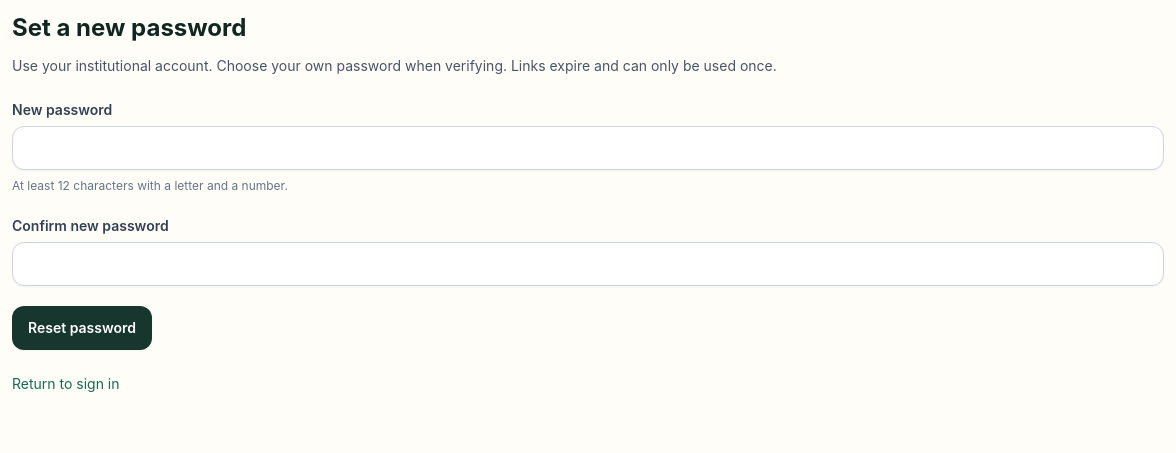
does not submit a recovery password when confirmation differs
In the password field labelled "New password": [588, 148] box [12,126,1164,170], type "ChosenPassword123!"
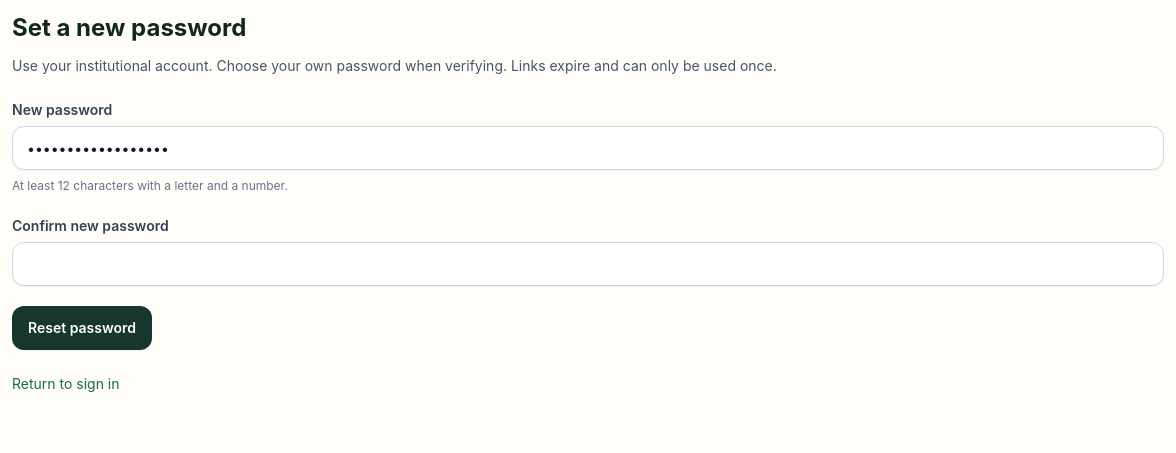
In the password field labelled "Confirm new password": [588, 264] box [12,242,1164,286], type "DifferentPassword123!"
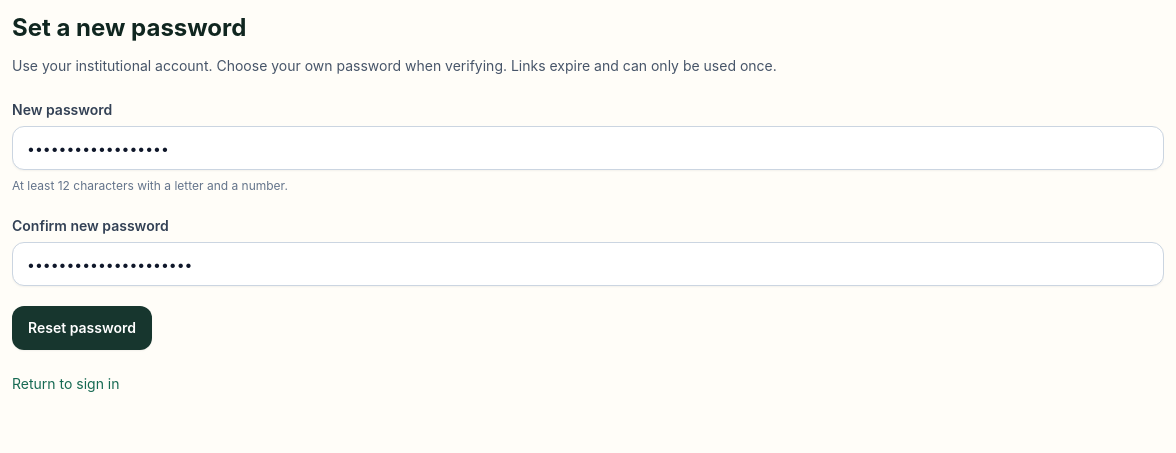
Click the button "Reset password": [82, 328] box [12,306,152,350]
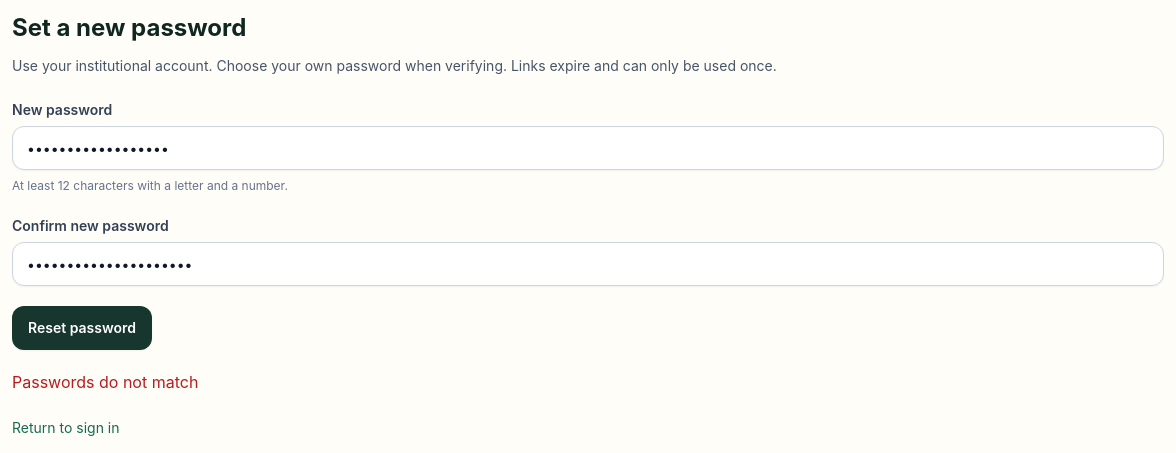
Check: the message reads "Passwords do not match", box [12,372,198,392]
